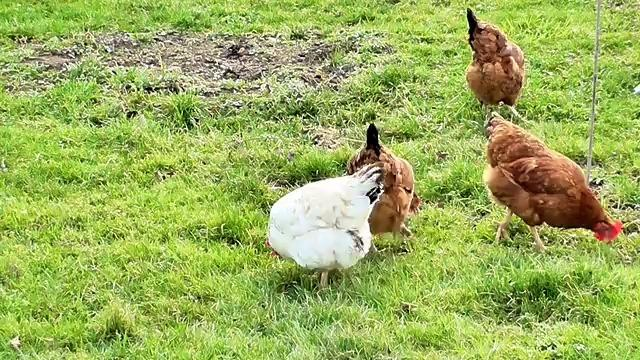Normal: (488, 120, 621, 243)
